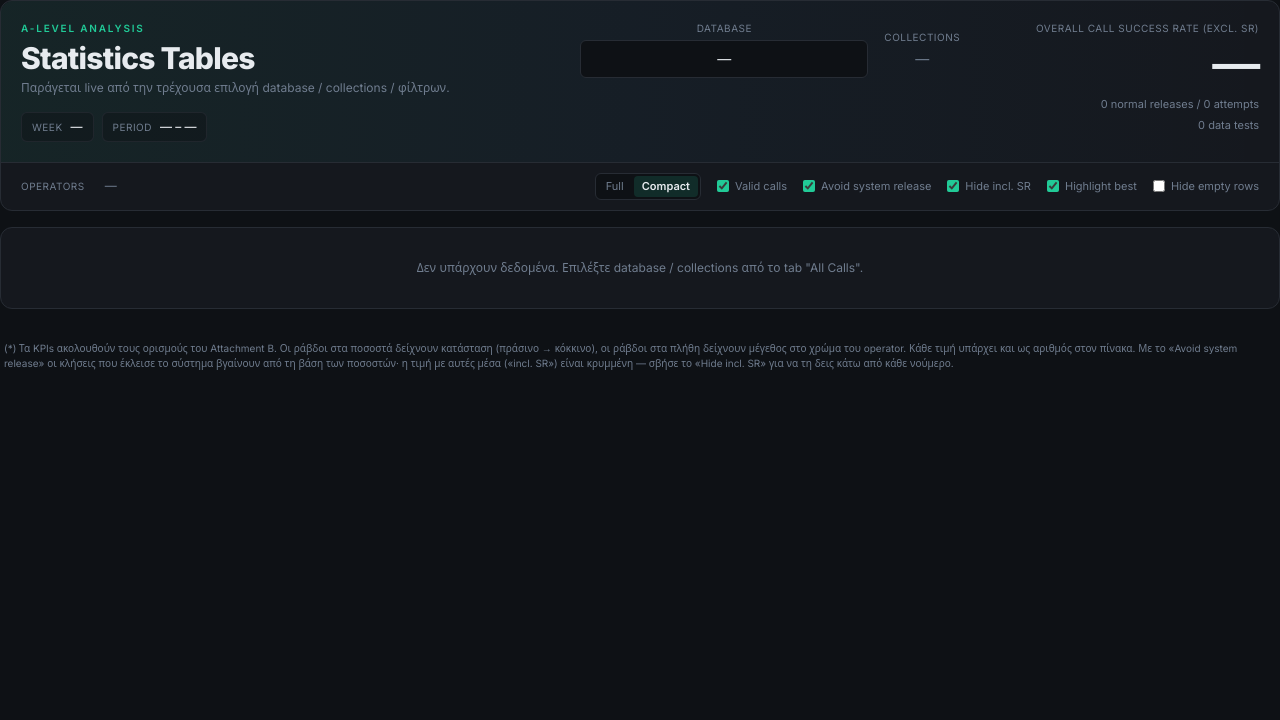
Test: SummaryTab edge cases › Valid calls filter › shows the empty state when every row is isValid=0, and brings them back when unchecked
Expected: the text "Δεν υπάρχουν δεδομένα" is shown, [417, 260, 863, 274]
Expected: the text "Free (2G-3G-LTE-VoNR) Call Stats" is not shown
Click the checkbox labelled "Valid calls": {"x": 723, "y": 186} [717, 180, 729, 192]
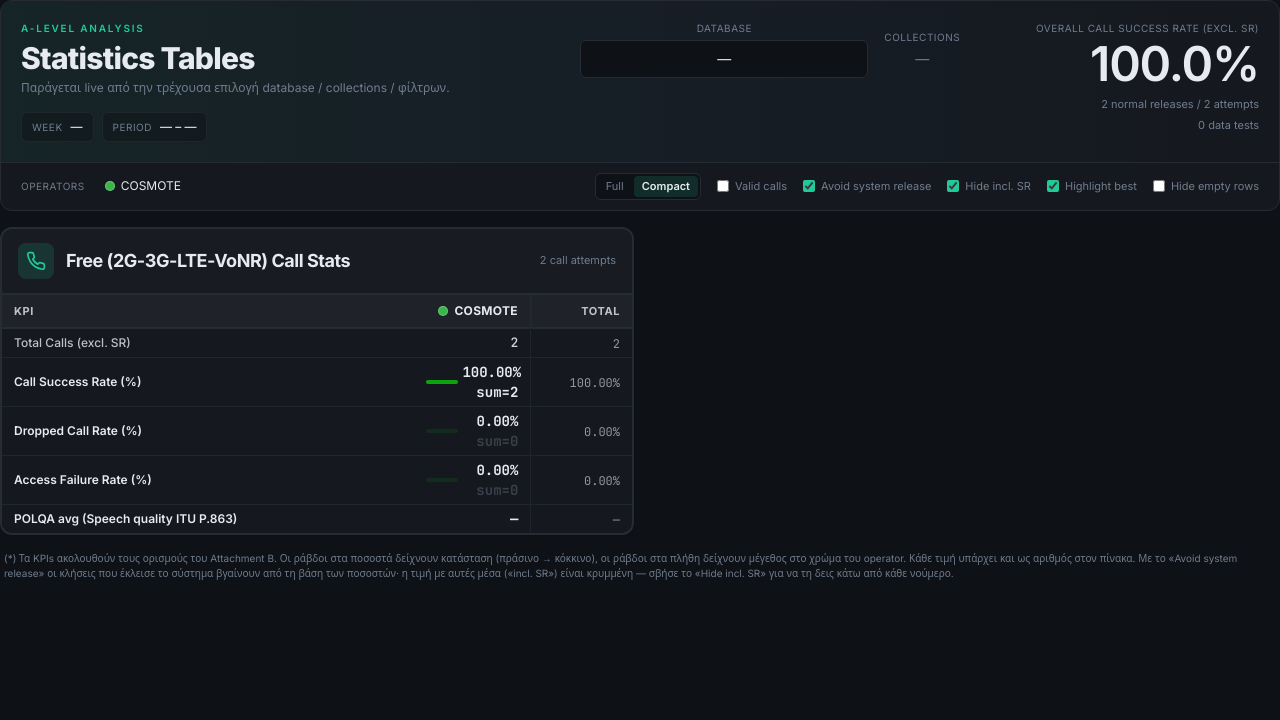
Expected: the text "Δεν υπάρχουν δεδομένα" is gone
Expected: the text "2 call attempts" is shown, [540, 252, 616, 269]
